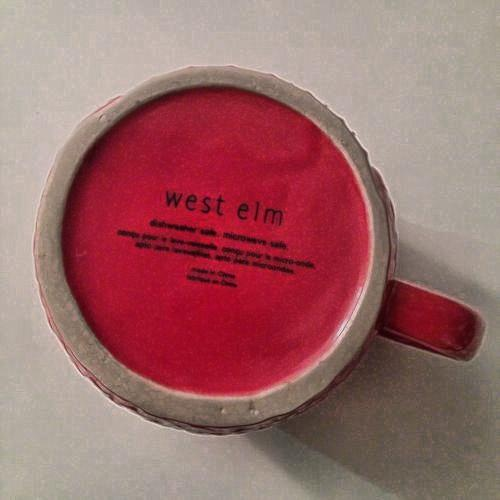mug: (48, 56, 452, 440)
